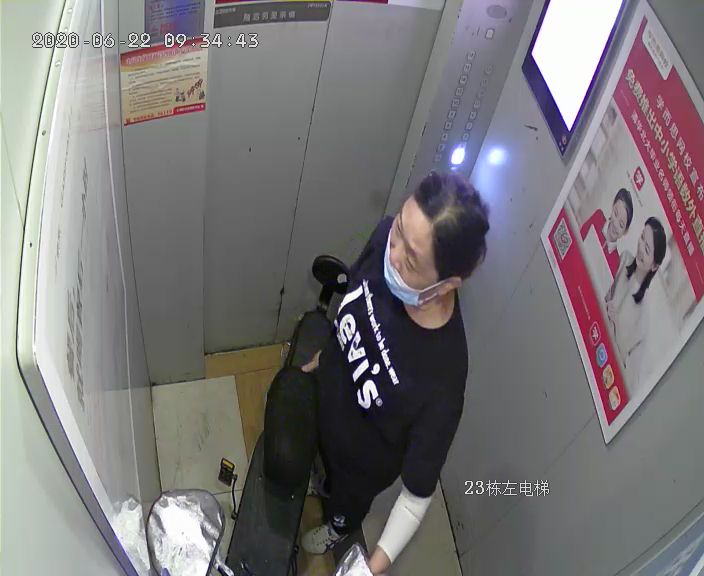Electric-bicycle: (147, 247, 350, 576)
